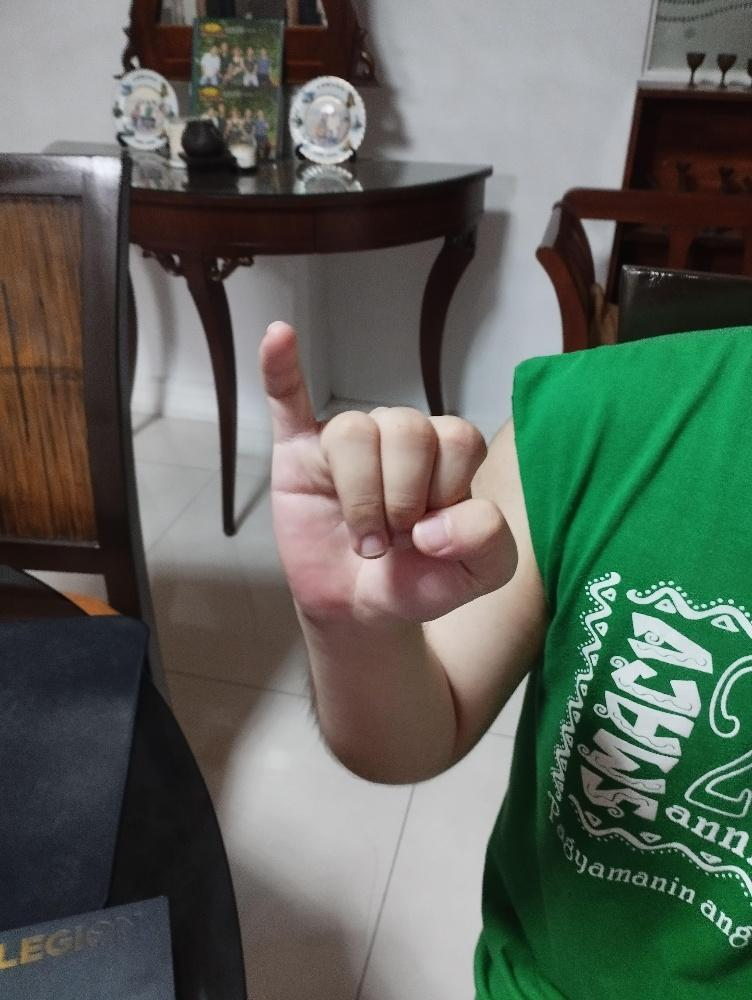i: (255, 316, 522, 634)
